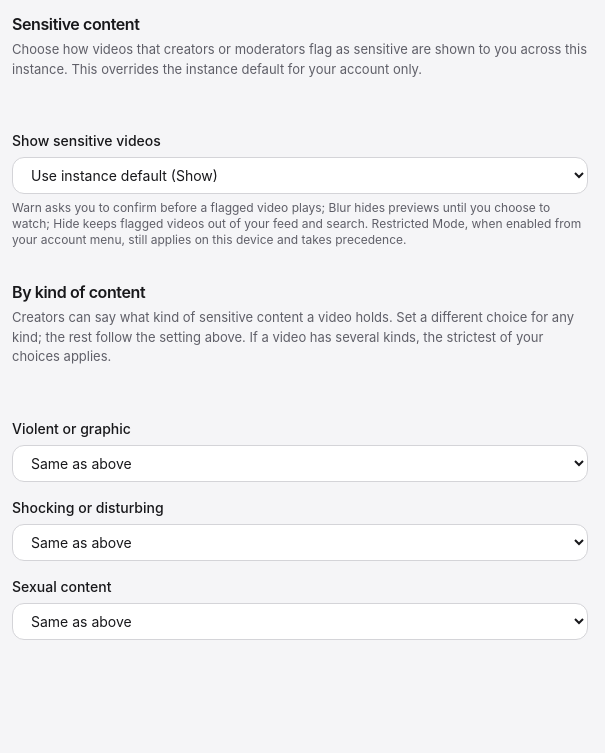
Test: ContentSettingsView › PATCHes the chosen policy and shows a saved status
Select "Hide from browse" in the dropdown labelled "Show sensitive videos" at point(300, 176), box x1=12 y1=157 x2=588 y2=194
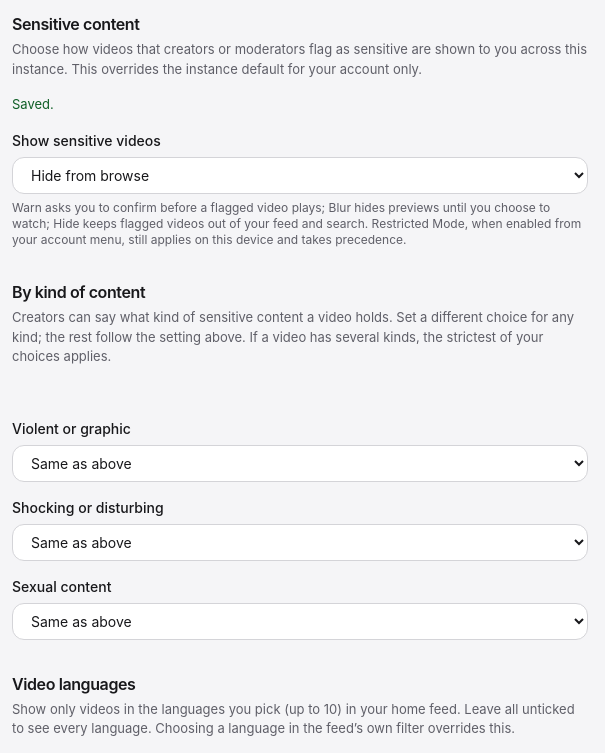
Now the text "Saved." is shown, box x1=12 y1=96 x2=54 y2=112
